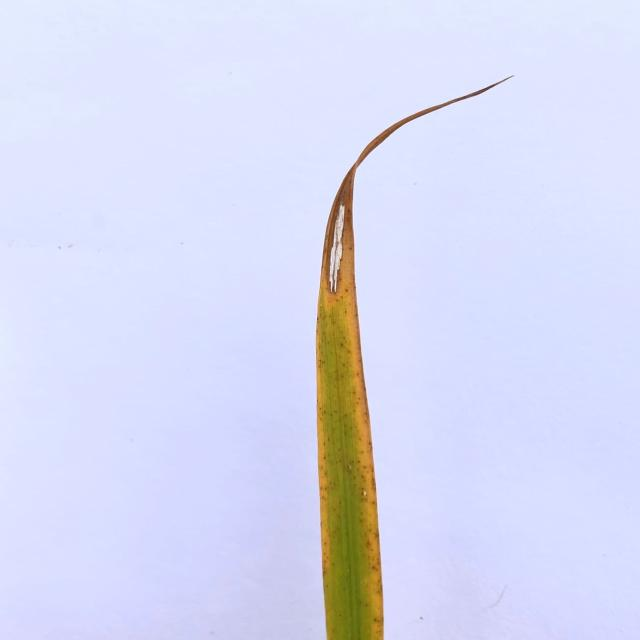tungro: (314, 181, 391, 640)
